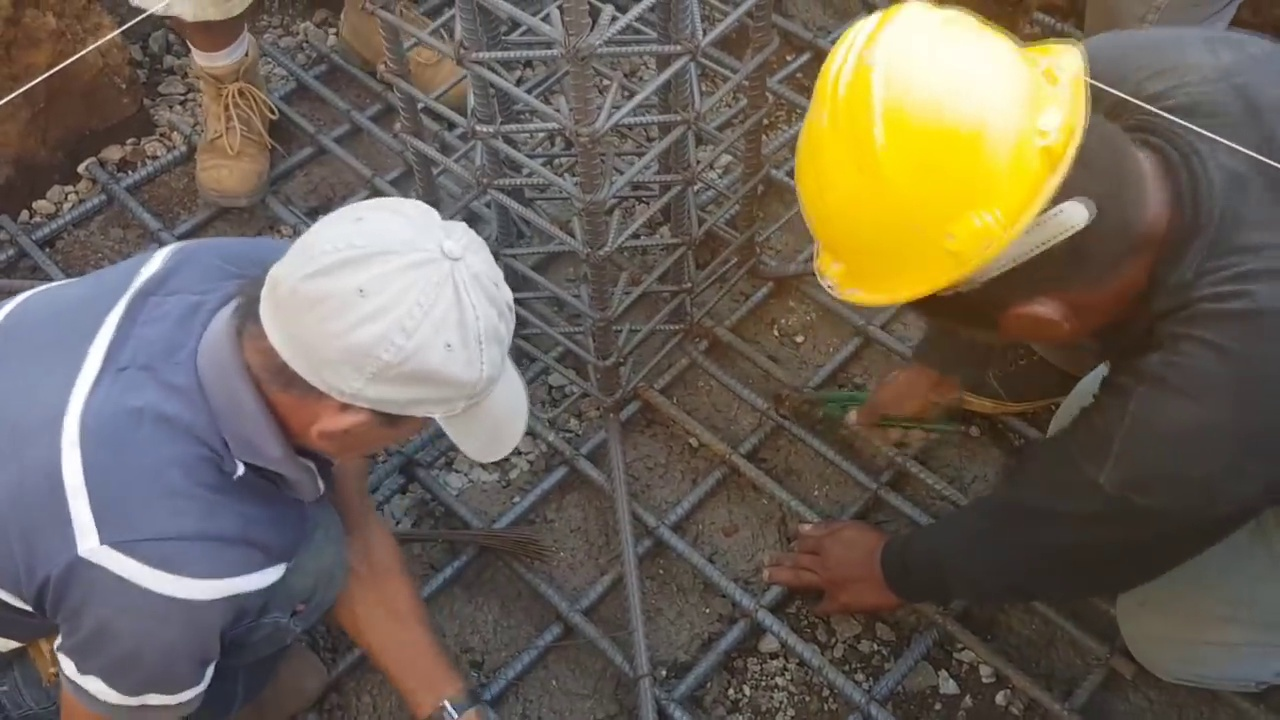helmet: (793, 0, 1108, 324)
helmet-off: (248, 202, 505, 487)
helmet-on: (789, 4, 1208, 377)
person: (752, 2, 1280, 698), (0, 186, 535, 720)
